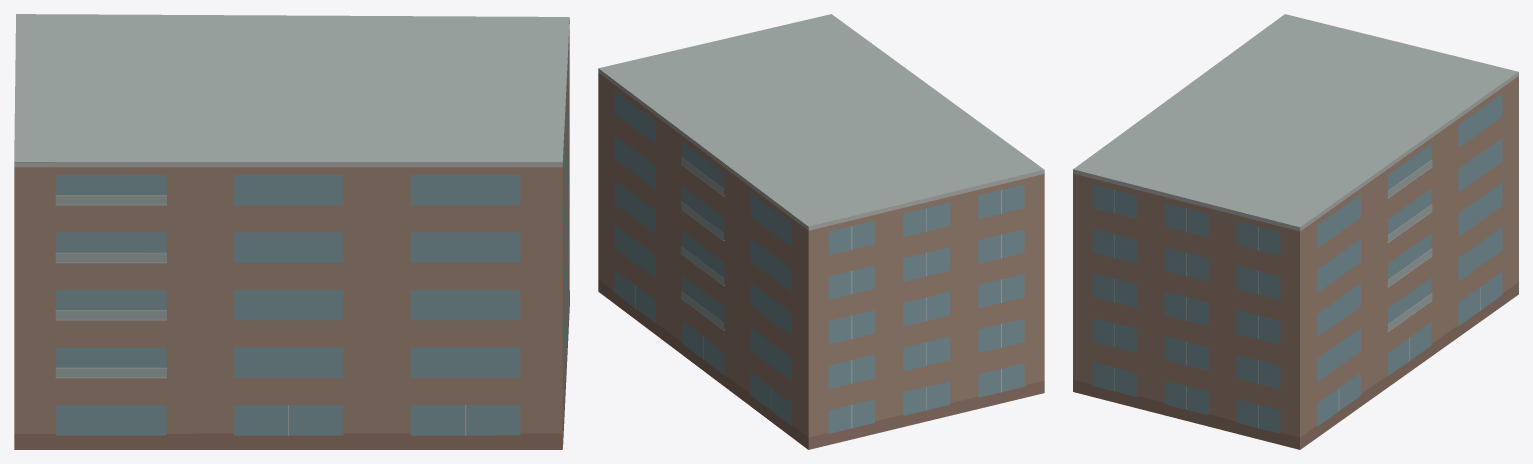
File: survey-upis-32752669.glb
3 views of the same model, side by side, from view 1: azimuth 30°, elevation 25°; view 2: azimuth 150°, elevation 25°; view 3: azimuth 270°, elevation 25° (orthographic). The views are drawn at different scales.
Parts seen in each view (by area): view 1: survey-upis-32752669.tmp; view 2: survey-upis-32752669.tmp; view 3: survey-upis-32752669.tmp.
Part boxes in pixels (x1=…): survey-upis-32752669.tmp: x1=14, y1=14, x2=569, y2=449; survey-upis-32752669.tmp: x1=598, y1=14, x2=1044, y2=449; survey-upis-32752669.tmp: x1=1073, y1=14, x2=1518, y2=449.
Bounding box in the file's own units: 26.94 × 13.1 × 23.79.
